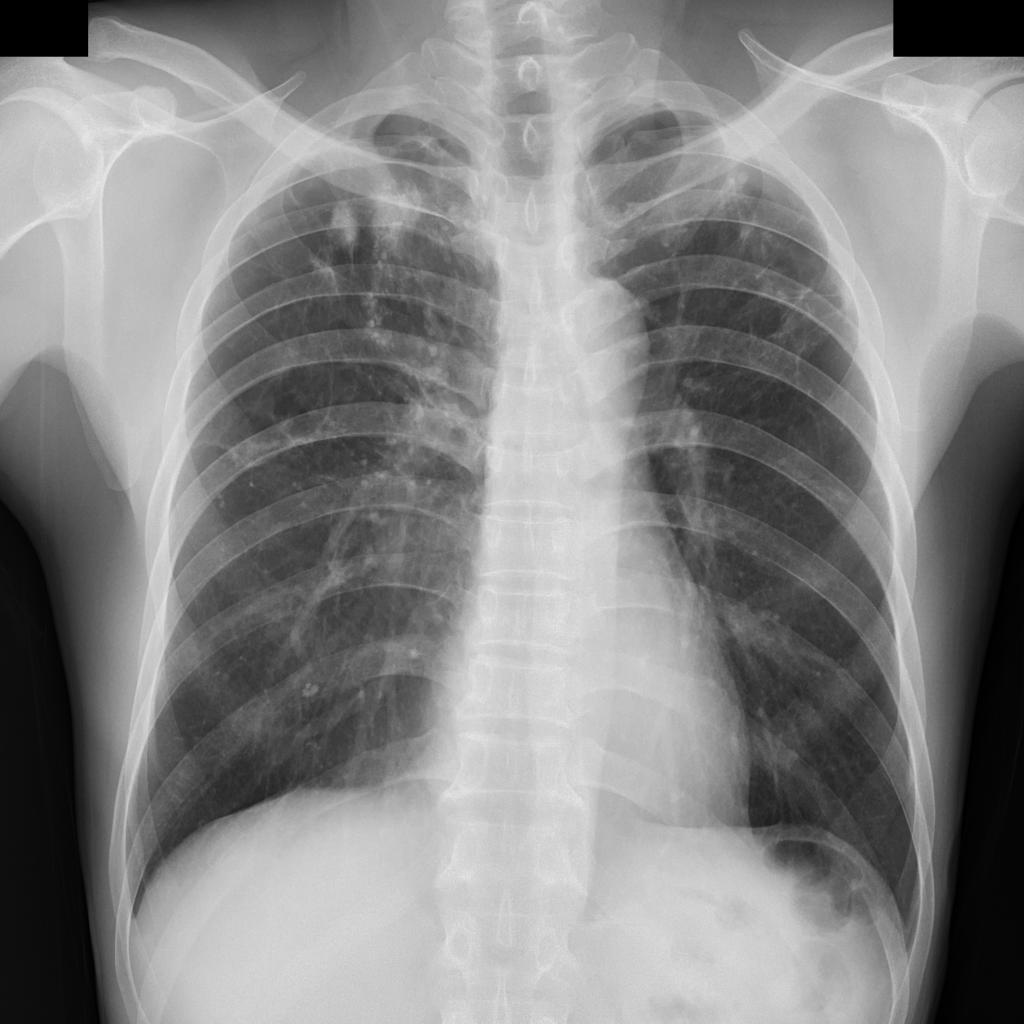Nodule: (233, 409, 449, 515), (304, 682, 319, 699), (407, 648, 423, 659)
